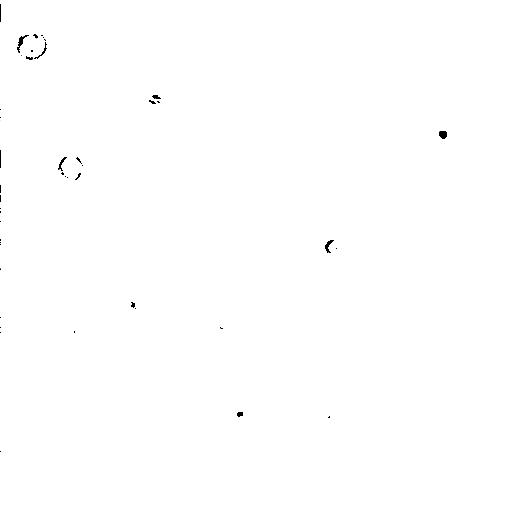micro-algae: (189, 3, 248, 60), (99, 280, 155, 334), (13, 25, 49, 62), (427, 116, 457, 147), (57, 151, 85, 183), (320, 237, 347, 263), (227, 402, 252, 428), (57, 318, 83, 341)
